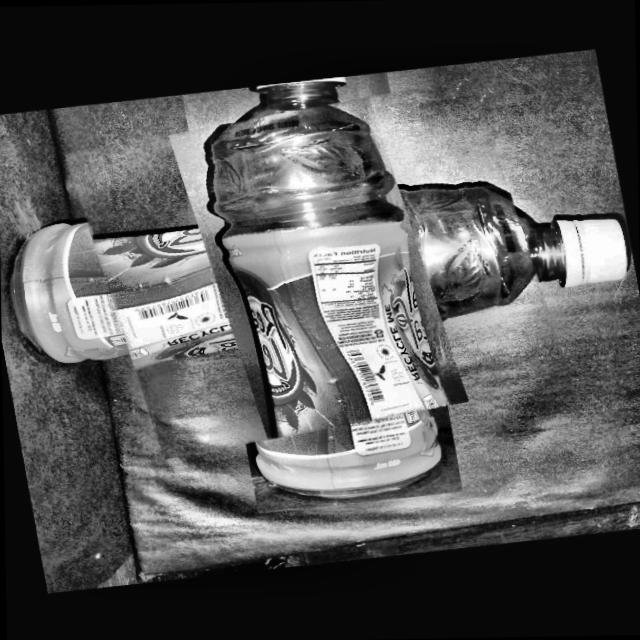Plastic-Bottle: (68, 78, 564, 455)
